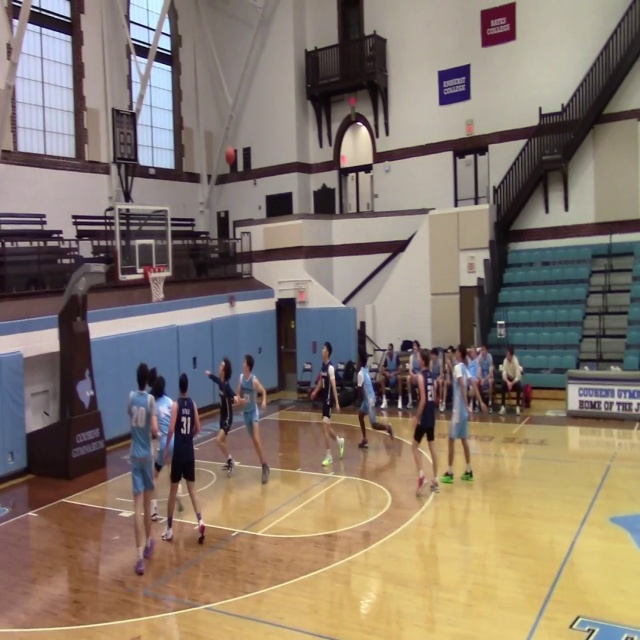Basketball: (225, 147, 236, 165), (349, 96, 356, 106)
